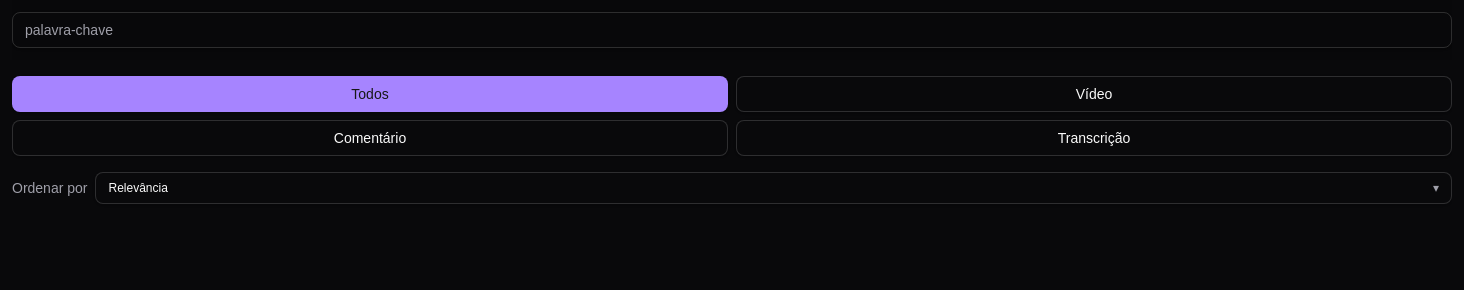
Test case: SearchView › exibe Ordenar por como dropdown do shadcn
The image size is (1464, 290).
Step 1. Click the button with aria-label "Ordenar por" → (138, 188), box [96, 172, 1452, 204]
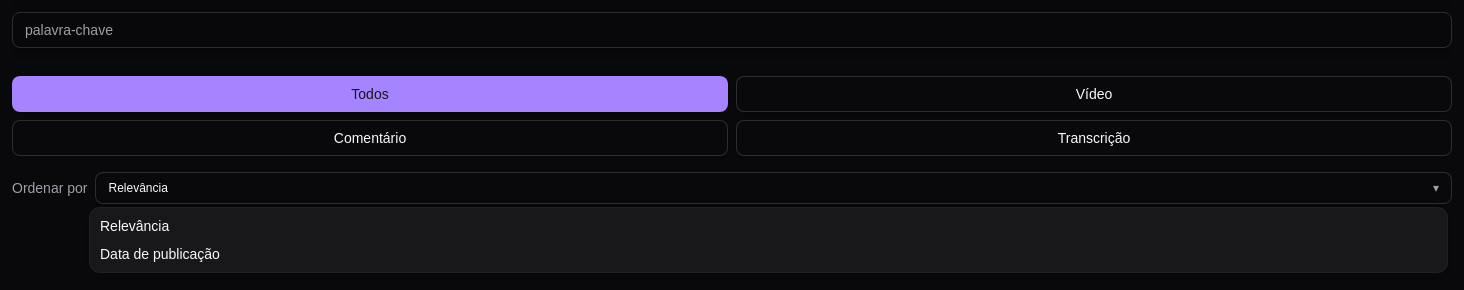
Result: the menu item "Relevância" is shown at [100, 218, 169, 234]
Result: the menu item "Data de publicação" is shown at [100, 246, 220, 262]
